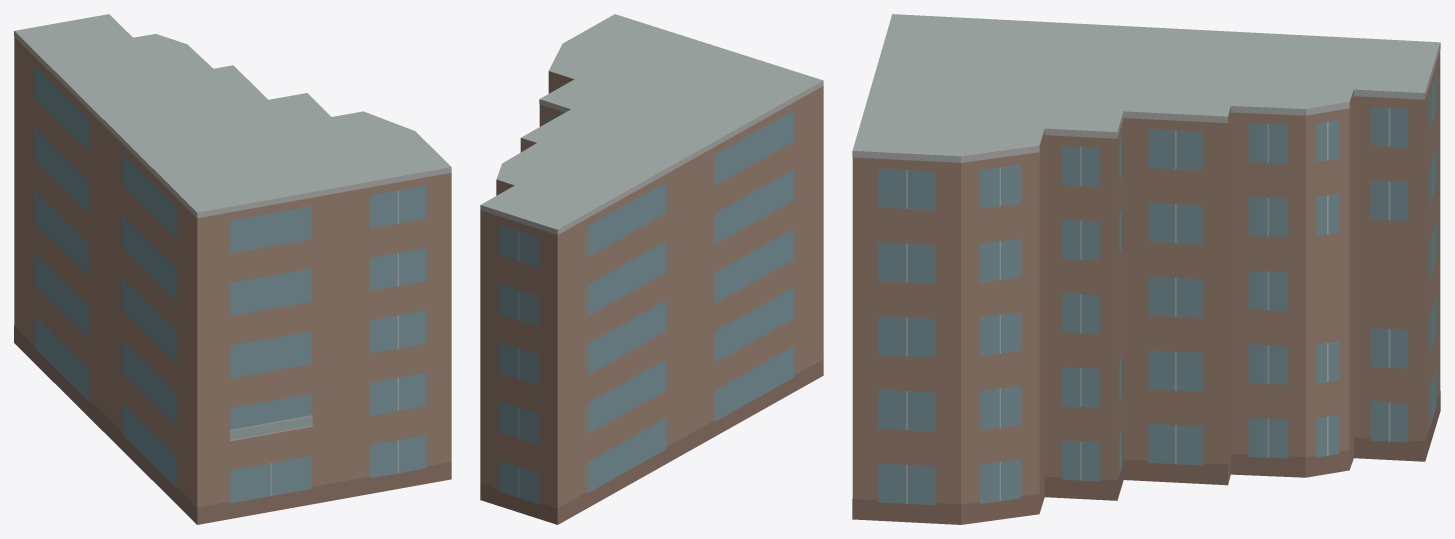
The model's file is survey-upis-32927372.glb.
3 renders of one model, left to right at view 1: azimuth 30°, elevation 25°; view 2: azimuth 150°, elevation 25°; view 3: azimuth 270°, elevation 25°, orthographic. The views are drawn at different scales.
Parts seen in each view (by area): view 1: survey-upis-32927372.tmp; view 2: survey-upis-32927372.tmp; view 3: survey-upis-32927372.tmp.
Part boxes in pixels (bbox=[...]): survey-upis-32927372.tmp: bbox=[14, 14, 451, 524]; survey-upis-32927372.tmp: bbox=[480, 14, 823, 524]; survey-upis-32927372.tmp: bbox=[852, 14, 1440, 524].
Size of the model in its own units: 11.36 by 13.7 by 19.82.
